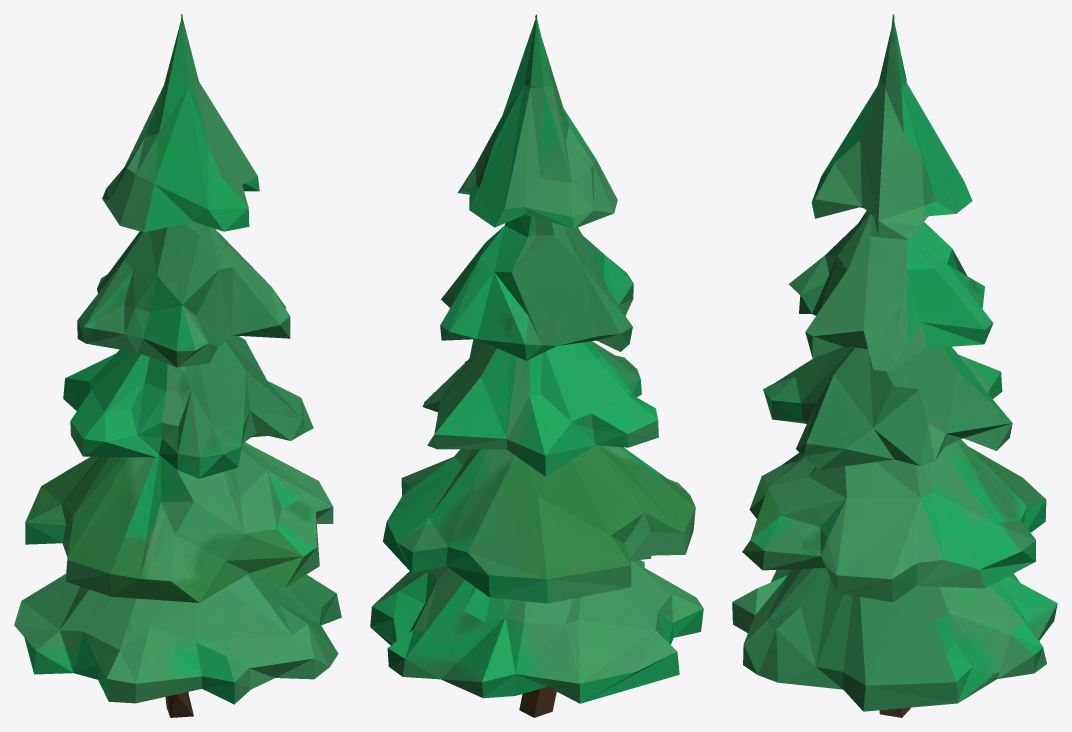
File: tree_08.glb
The picture shows the model from 3 angles, left to right: view 1: azimuth 30°, elevation 25°; view 2: azimuth 150°, elevation 25°; view 3: azimuth 270°, elevation 25°; orthographic projection.
Visible parts, largest first — view 1: _8_tree__8_tree_0; view 2: _8_tree__8_tree_0; view 3: _8_tree__8_tree_0.
Boxes of the visible parts, bbox=[...] form: _8_tree__8_tree_0: bbox=[14, 14, 341, 717]; _8_tree__8_tree_0: bbox=[370, 14, 703, 717]; _8_tree__8_tree_0: bbox=[732, 14, 1057, 717].
Size of the model in its own units: 4.79 by 11 by 4.65.
1 material, 1 textured.
